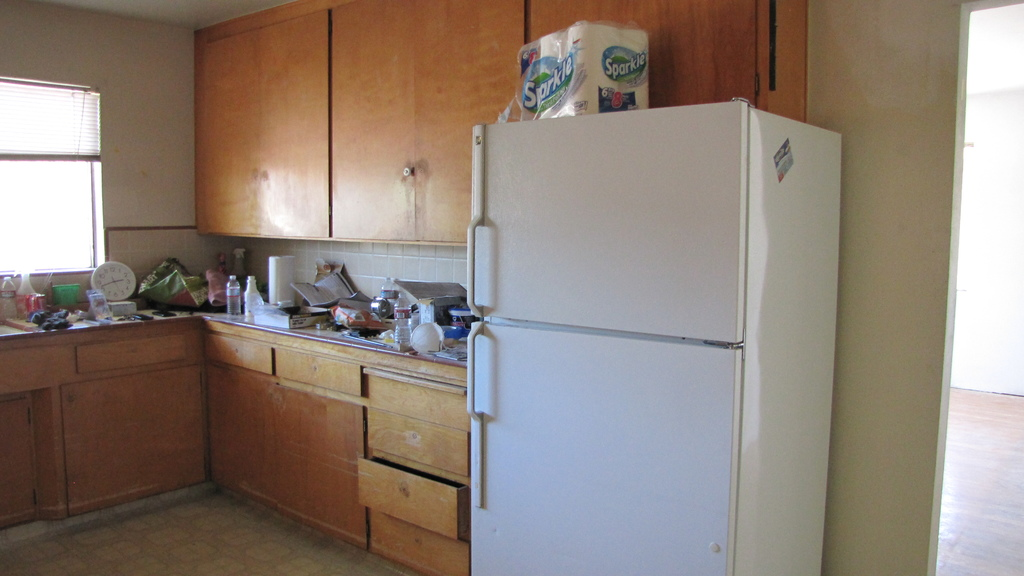cabinet door: (332, 12, 413, 238), (54, 380, 205, 486), (417, 17, 477, 232), (358, 466, 456, 524), (376, 418, 466, 473), (381, 520, 466, 569), (276, 350, 363, 390), (76, 339, 194, 364), (209, 338, 284, 369)
handle: (457, 326, 494, 418), (466, 217, 490, 310)
refrigerator door: (471, 334, 729, 572), (470, 126, 746, 338)
